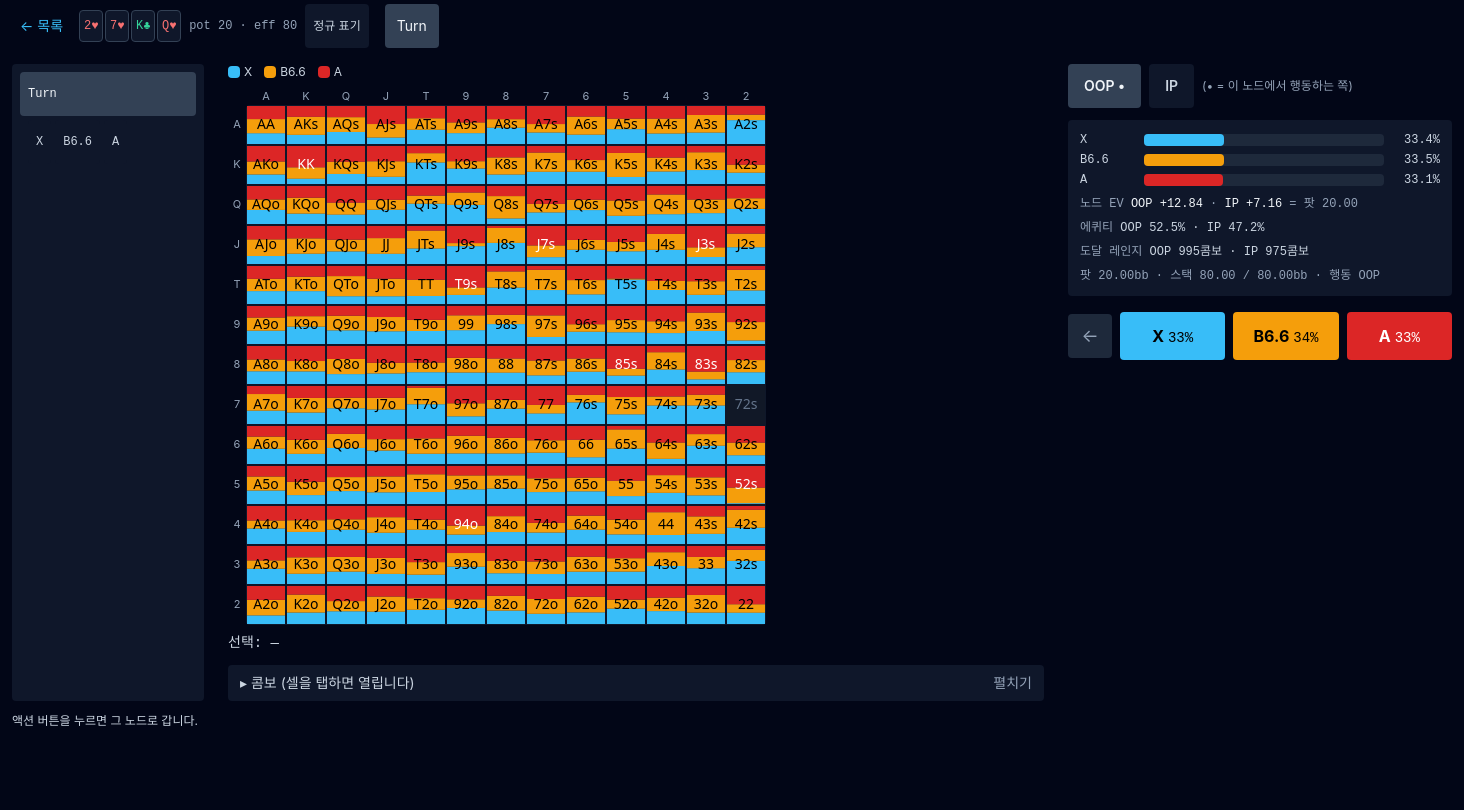
Test: P5 3.2 탐색기 — 행동 노드 › P5 3.2 OOP|IP 토글 — 상대 쪽에서는 전략 범례가 아니라 도달 레인지다
Expected: the element with test id "legend" shows "B6.6", [280,64,306,79]
What coordinates should you click on to do the following:
click the button with test id "player-ip"
I would click on:
 (1172, 86)
Its box is [1149,64,1194,108].
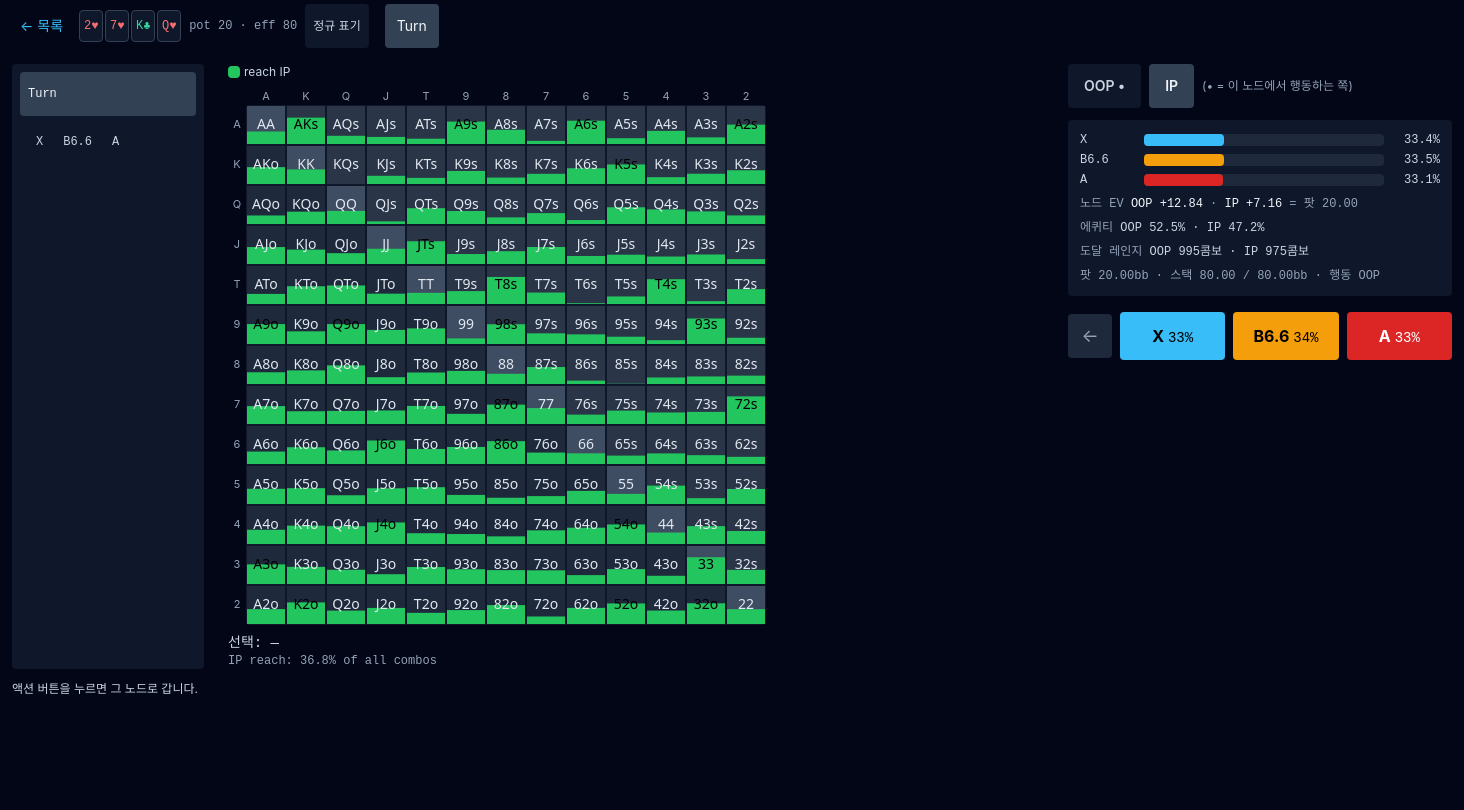
Expected: the element with test id "legend" does not show "B6.6"
Expected: the element with test id "legend" shows "reach", [244,64,290,79]
Expected: the button with test id "combo-toggle" is gone
